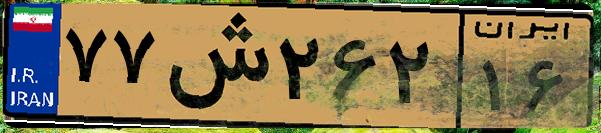1: (475, 38, 525, 113)
2: (270, 28, 330, 110), (385, 28, 445, 110)
6: (330, 28, 385, 110), (525, 38, 570, 115)
7: (57, 26, 110, 100), (110, 28, 158, 98)
ش: (158, 12, 270, 120)
